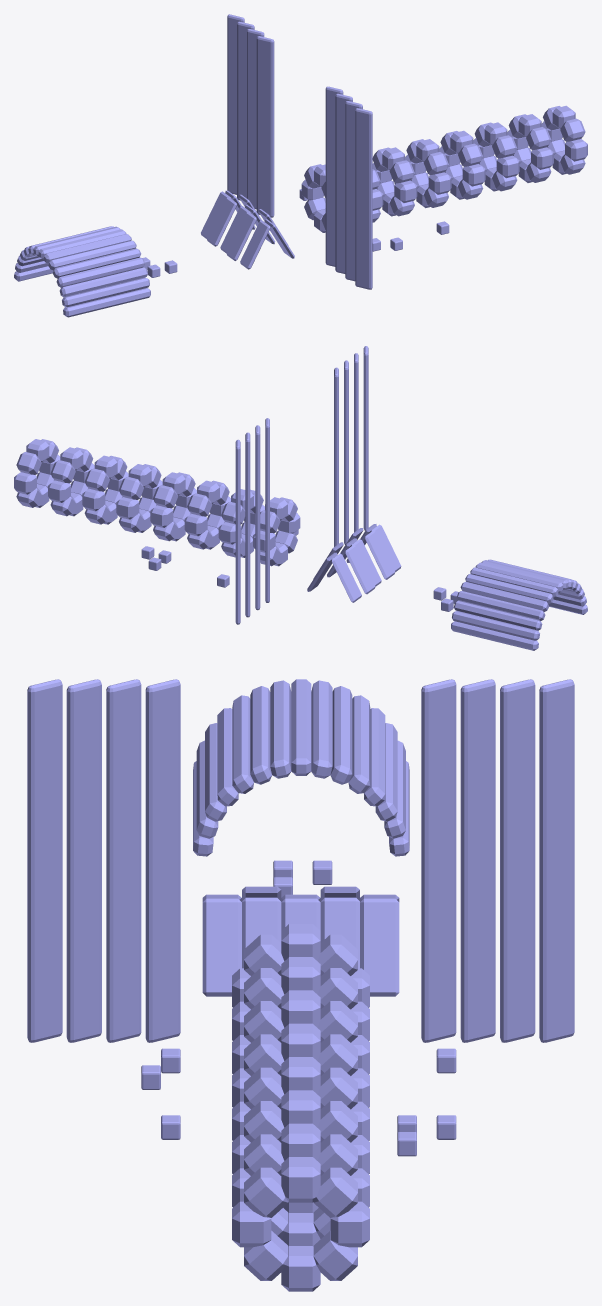
The model's file is tunnel.fbx.
3 renders of one model, top to bottom at view 1: azimuth 30°, elevation 25°; view 2: azimuth 150°, elevation 25°; view 3: azimuth 270°, elevation 25°, orthographic. The views are drawn at different scales.
Visible parts, largest first — view 1: Boole_1, Cube_4, Cube_4_2, Cube_10, Cube_10_2; view 2: Boole_1, Cube_4_2, Cube_4, Cube_10, Cube_10_2; view 3: Boole_1, Cube_4_2, Cube_4, Cube_10, Cube_10_2.
Part boxes in pixels (box(x1,y1,x2,y2)): Boole_1: box(14, 105, 587, 317); Cube_4: box(325, 86, 372, 289); Cube_4_2: box(227, 14, 274, 217); Cube_10: box(201, 190, 294, 269); Cube_10_2: box(142, 183, 449, 277); Boole_1: box(14, 439, 587, 650); Cube_4_2: box(235, 418, 269, 624); Cube_4: box(334, 346, 368, 546); Cube_10: box(307, 524, 401, 602); Cube_10_2: box(141, 530, 458, 611); Boole_1: box(193, 679, 409, 1291); Cube_4_2: box(421, 679, 574, 1042); Cube_4: box(27, 679, 180, 1042); Cube_10: box(202, 886, 399, 996); Cube_10_2: box(141, 860, 456, 1156).
Bounding box in the file's own units: 6248 × 2000 × 2778.
